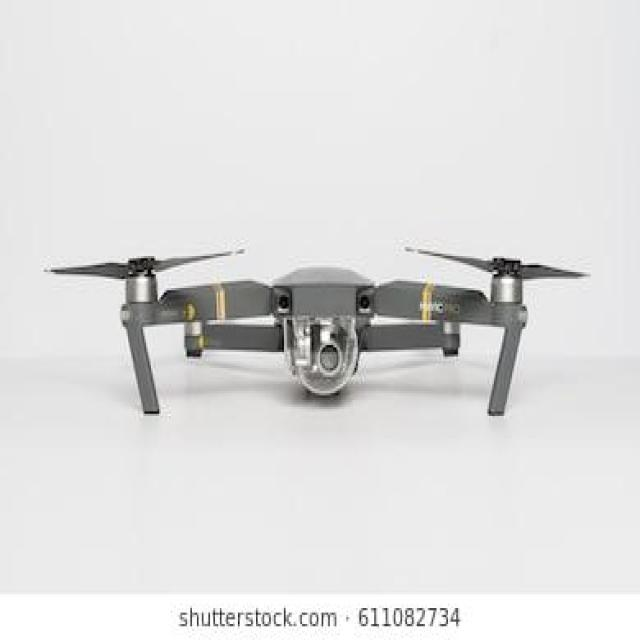drone: (42, 190, 591, 444)
